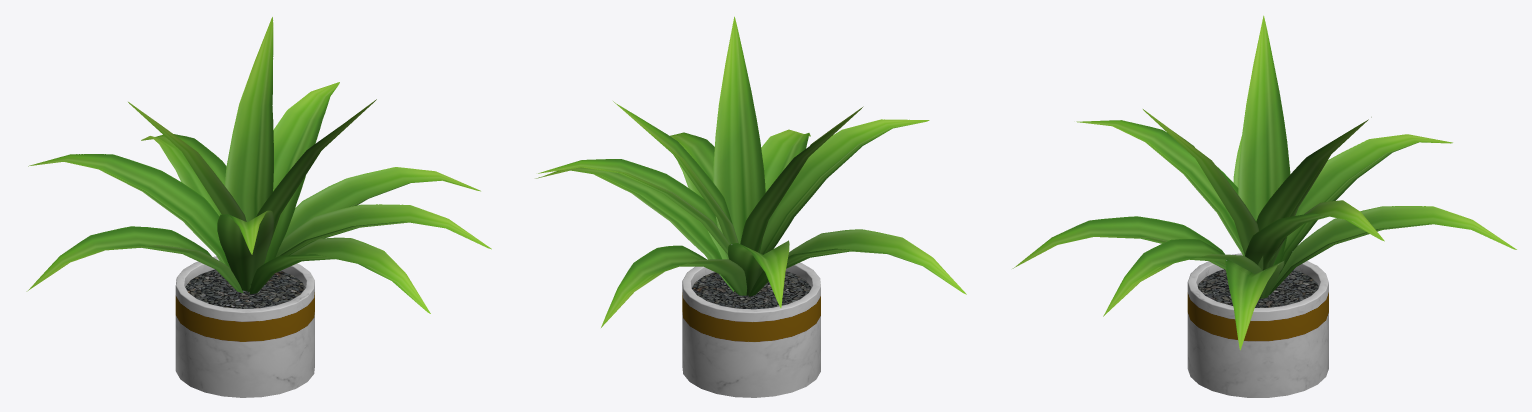
Rendered from plant4.FBX.
3 views of the same model, side by side, from view 1: azimuth 30°, elevation 25°; view 2: azimuth 150°, elevation 25°; view 3: azimuth 270°, elevation 25° (orthographic).
Parts seen in each view (by area): view 1: plant4; view 2: plant4; view 3: plant4.
Boxes of the visible parts, bbox=[...] form: plant4: bbox=[26, 17, 491, 397]; plant4: bbox=[535, 16, 966, 397]; plant4: bbox=[1012, 15, 1516, 397].
Size of the model in its own units: 17.86 by 17.58 by 11.54.
